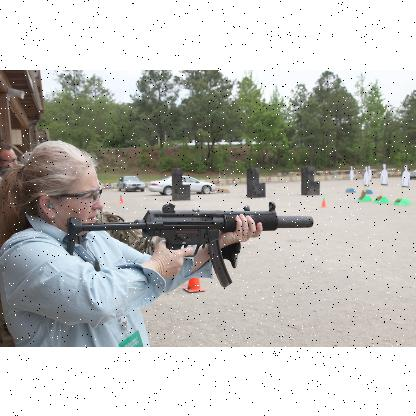gun: (70, 203, 314, 285)
